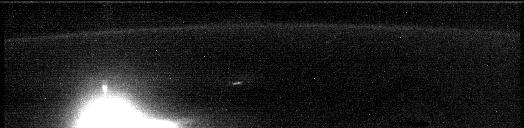positive: (98, 81, 109, 97)
